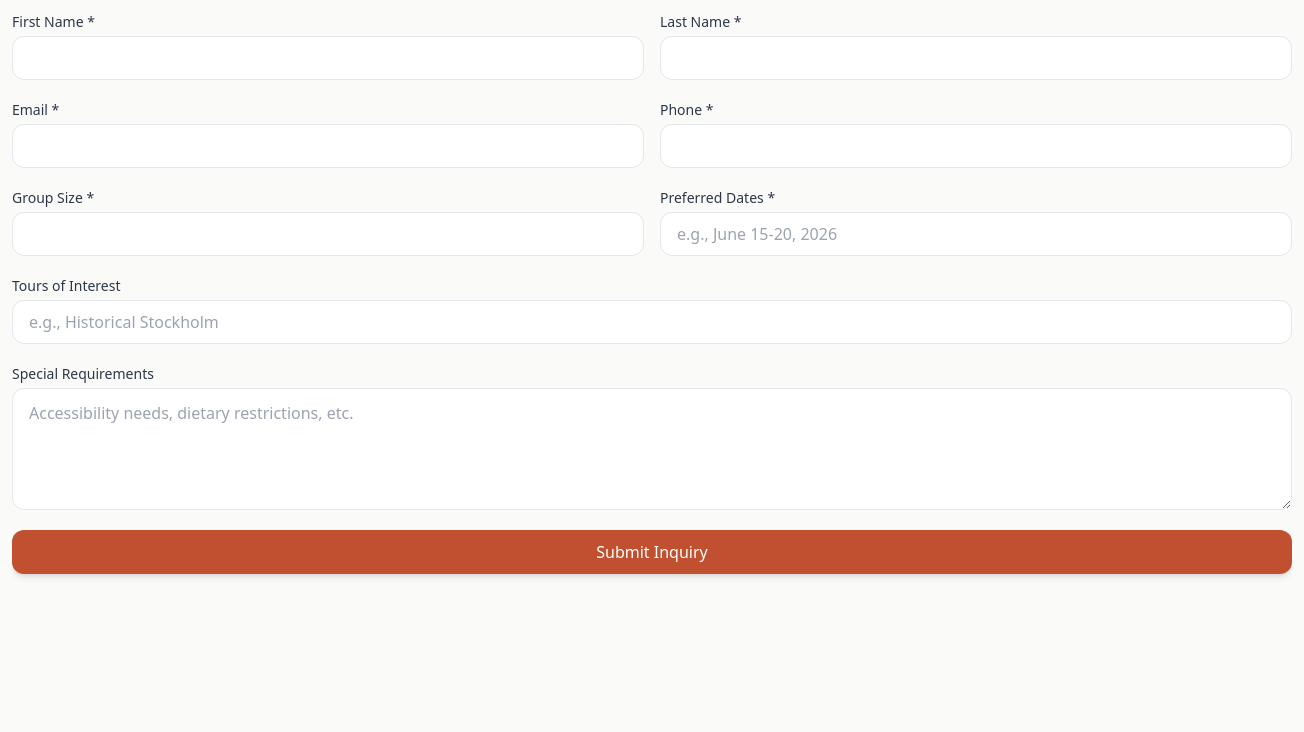
Test: GroupInquiryForm › shows error message on submission failure
This screenshot has width=1304, height=732.
In the field labelled "First Name *": (328, 58) x1=12 y1=36 x2=644 y2=80, type "John"
In the field labelled "Last Name *": (976, 58) x1=660 y1=36 x2=1292 y2=80, type "Doe"
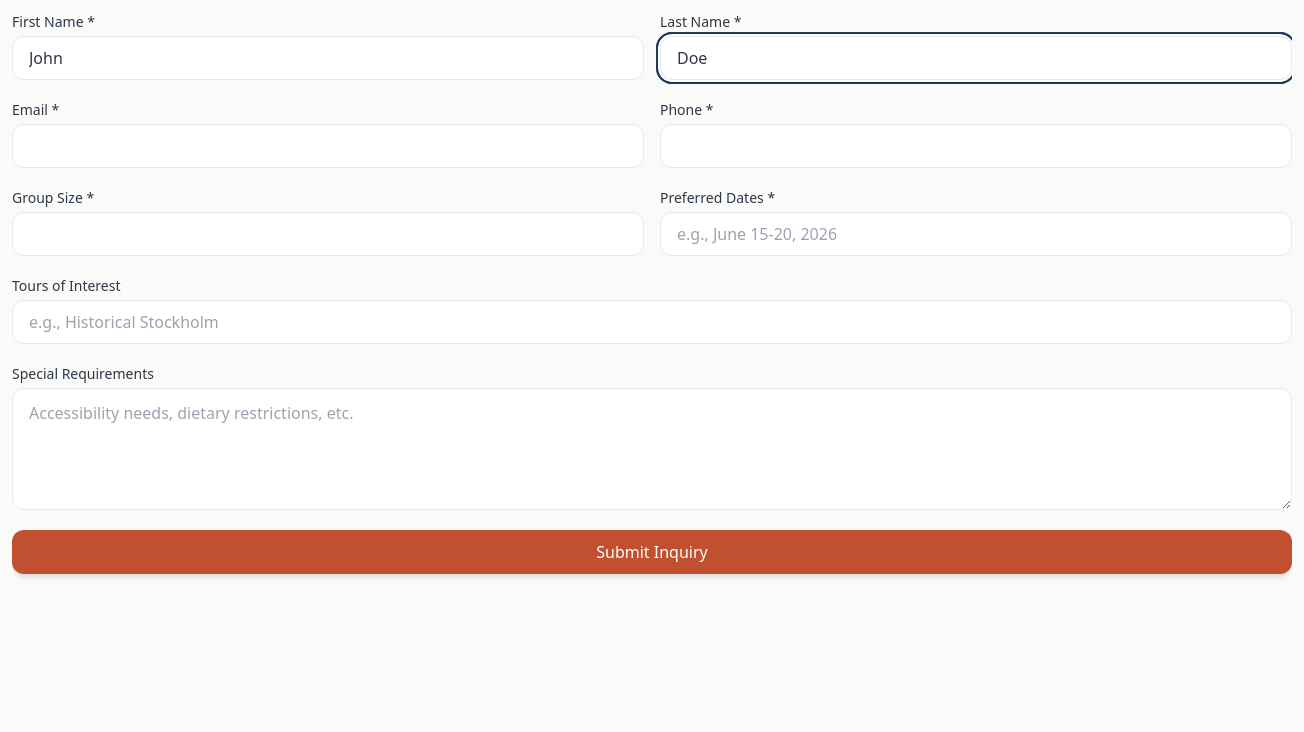
In the field labelled "Email *": (328, 146) x1=12 y1=124 x2=644 y2=168, type "john@example.com"
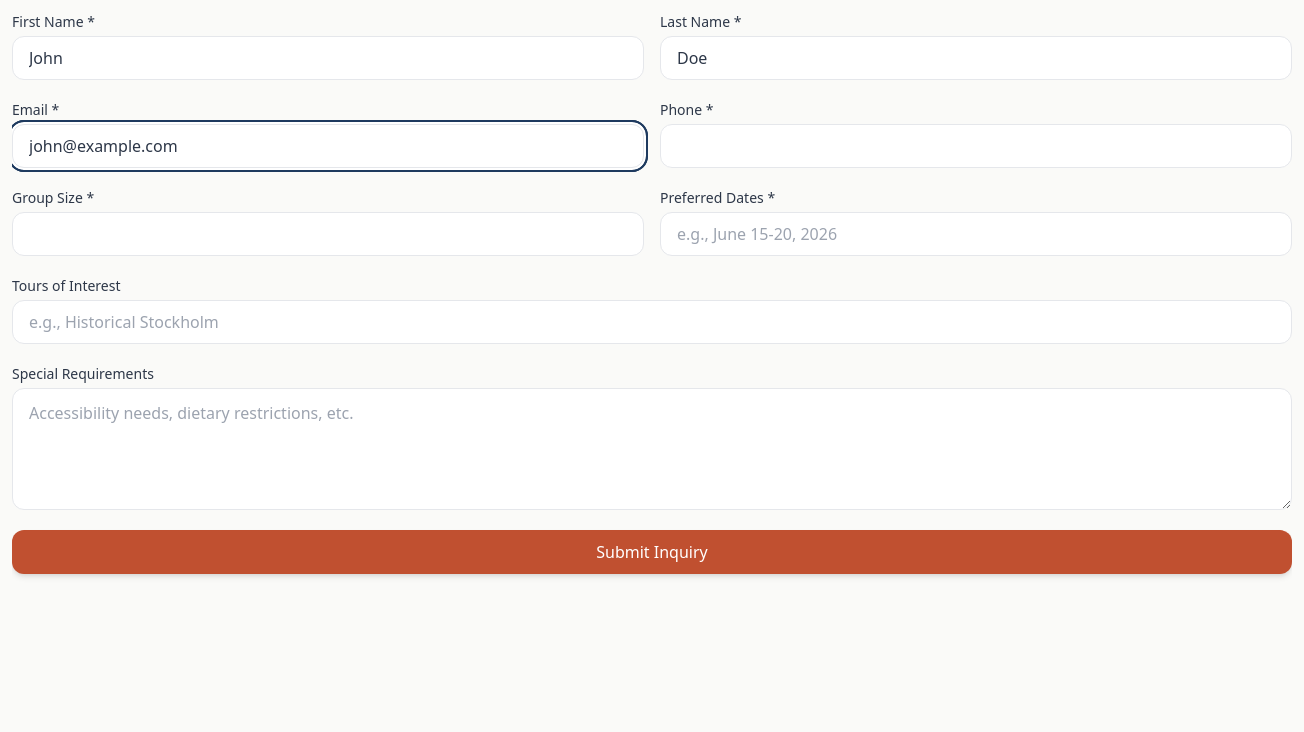
In the field labelled "Phone *": (976, 146) x1=660 y1=124 x2=1292 y2=168, type "46701234567"
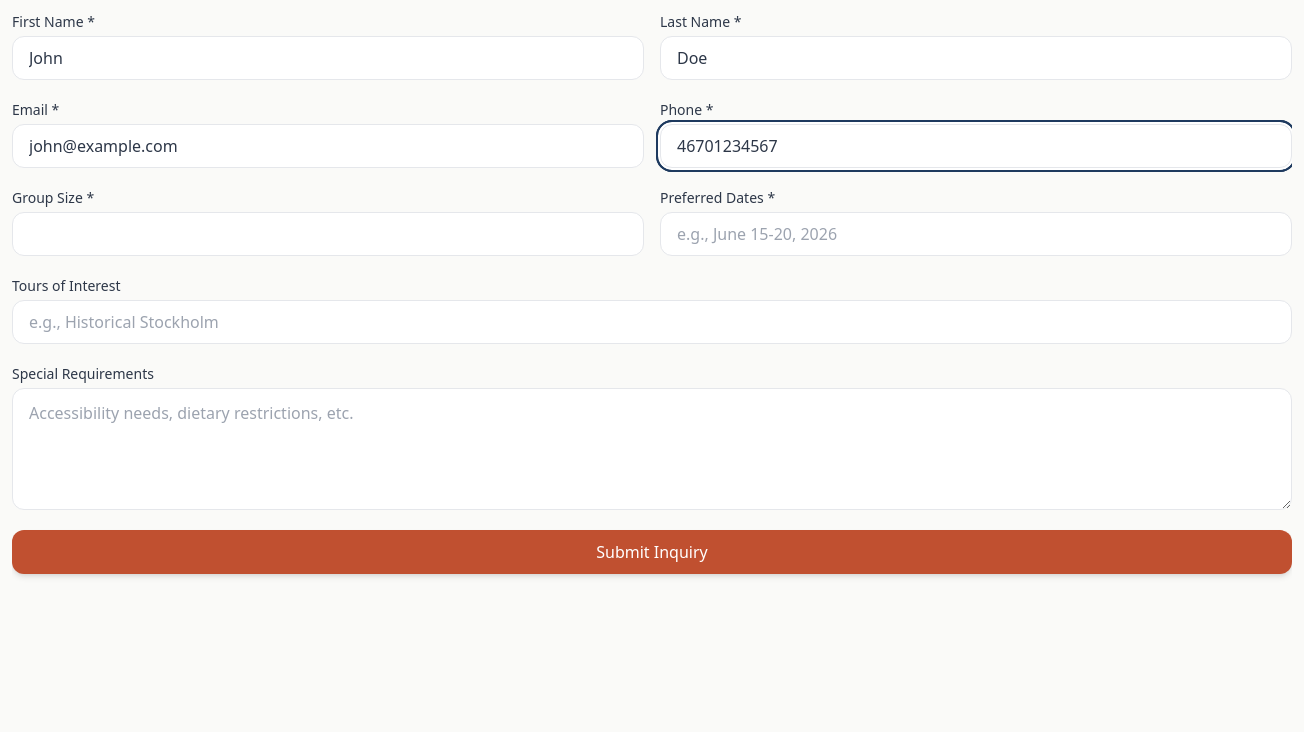
In the number field labelled "Group Size *": (328, 234) x1=12 y1=212 x2=644 y2=256, type "25"
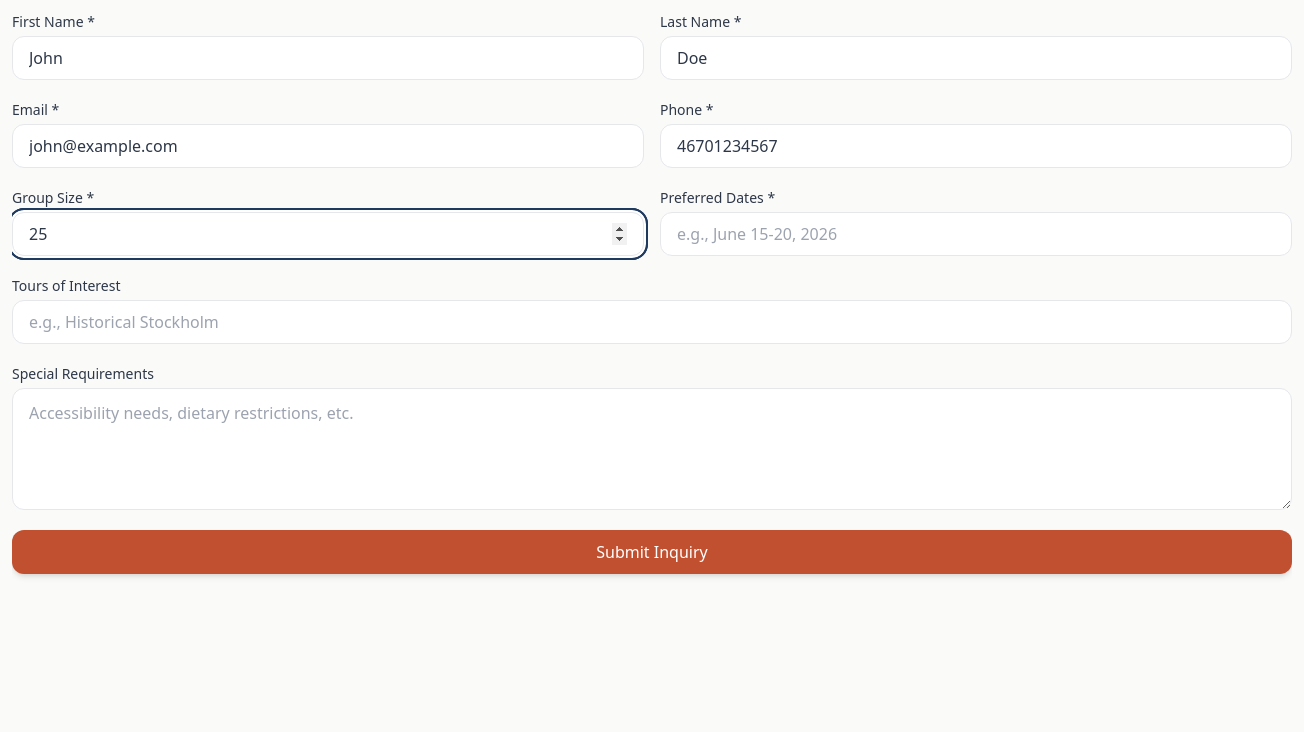
In the field labelled "Preferred Dates *": (976, 234) x1=660 y1=212 x2=1292 y2=256, type "June 15-20, 2026"
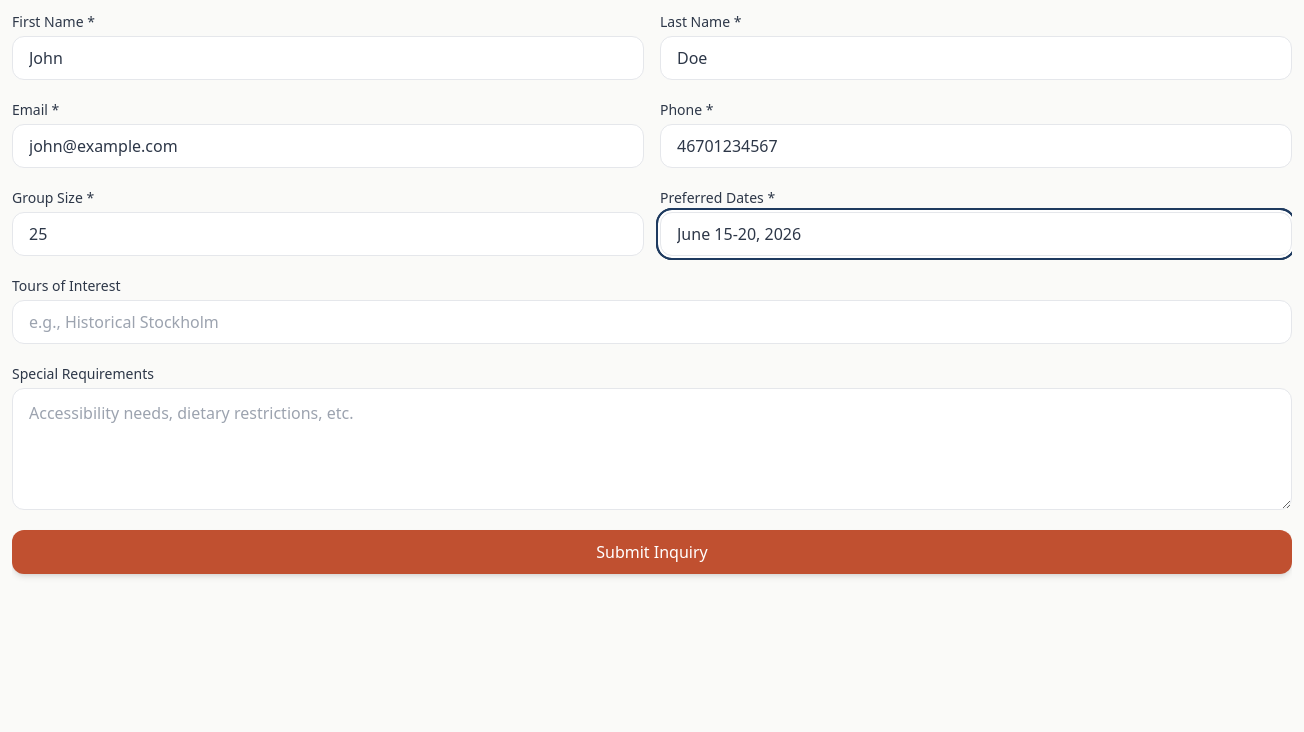
Click the button "Submit Inquiry": (652, 552) x1=12 y1=530 x2=1292 y2=574
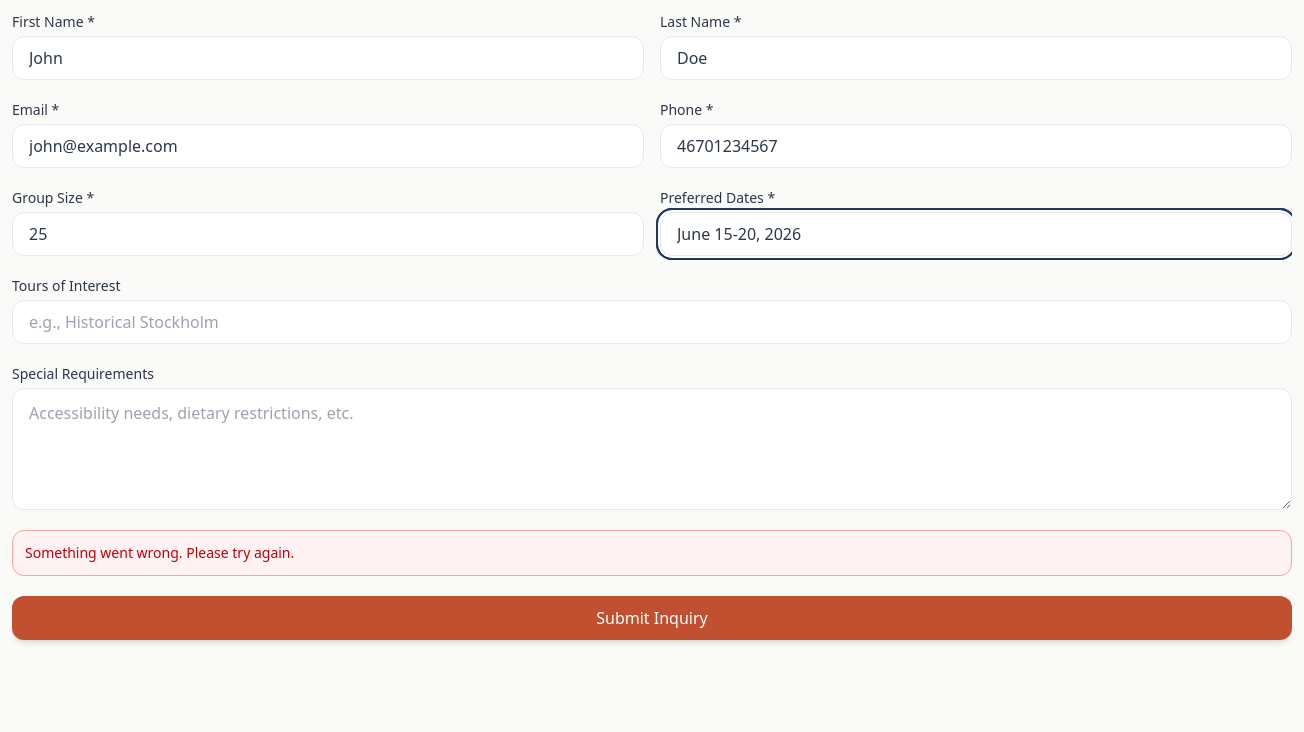
Expected: the text "Something went wrong. Please try again." is shown, x1=12 y1=530 x2=1292 y2=576
